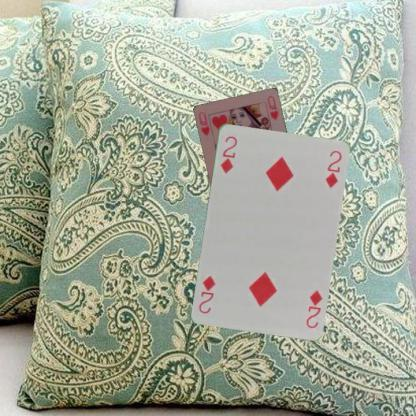2d: (217, 133, 238, 174), (304, 287, 324, 329)
Qh: (197, 108, 214, 138)
